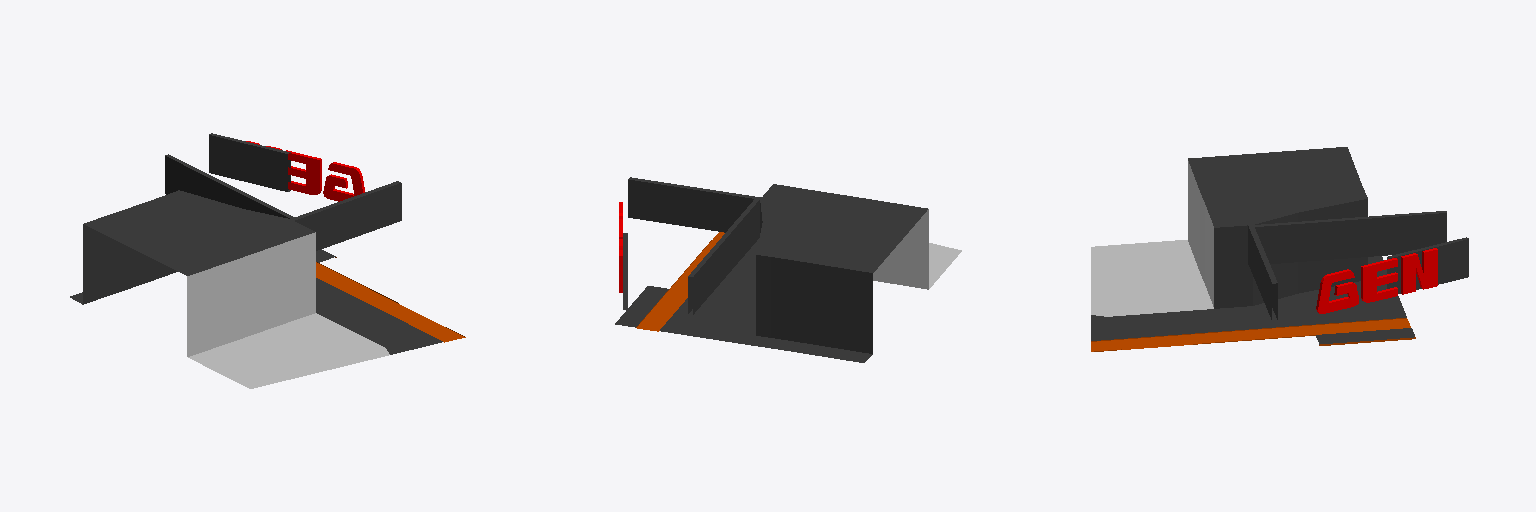
File: 15_gign.obj
The picture shows the model from 3 angles: view 1: azimuth 30°, elevation 25°; view 2: azimuth 150°, elevation 25°; view 3: azimuth 270°, elevation 25°; orthographic projection.
Parts seen in each view (by area): view 1: 15_gign_Grid.022; view 2: 15_gign_Grid.022; view 3: 15_gign_Grid.022.
Part boxes in pixels (left/top/right/bottom): 15_gign_Grid.022: left=70, top=133, right=465, bottom=388; 15_gign_Grid.022: left=615, top=177, right=961, bottom=362; 15_gign_Grid.022: left=1091, top=147, right=1468, bottom=351.
Size of the model in its own units: 16.11 by 4.5 by 18.63.